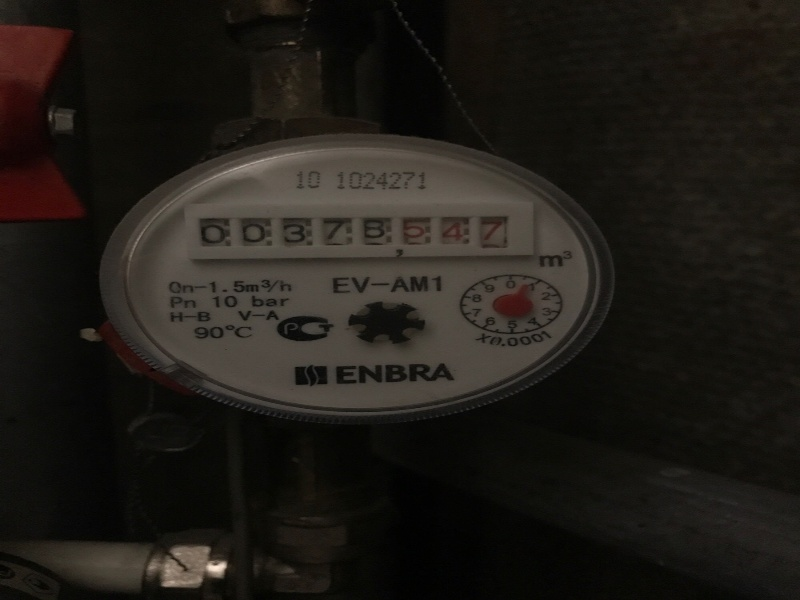meter: (193, 207, 522, 248)
